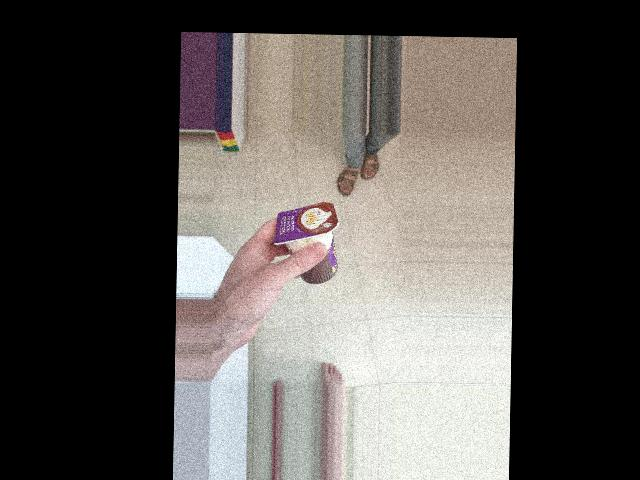milky: (286, 200, 372, 264)
